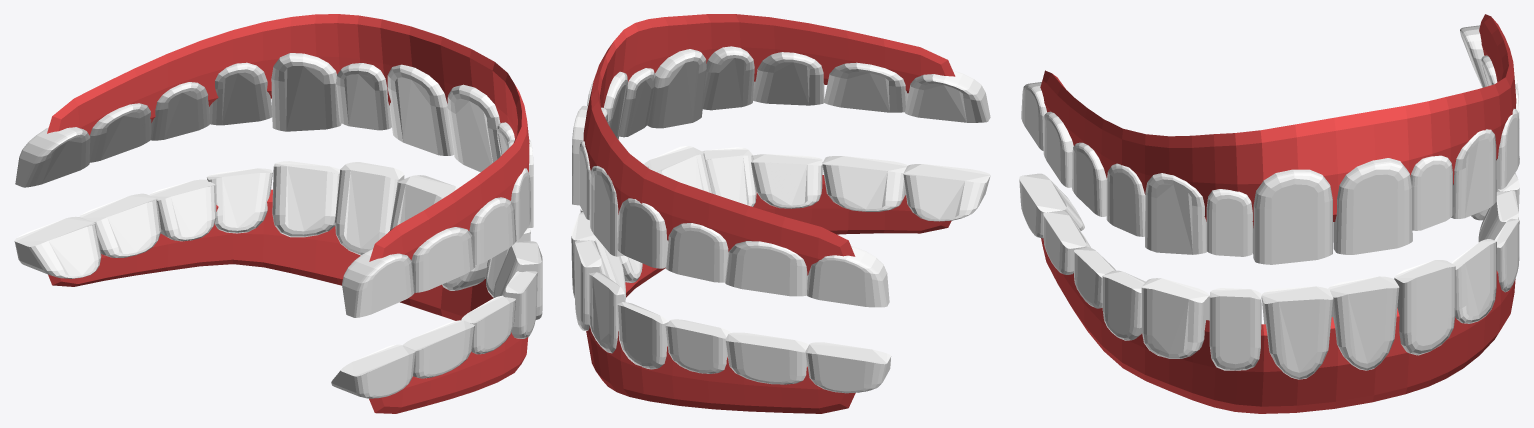
The model's file is cartoon-teeth-set.glb.
3 views of the same model, side by side, from view 1: azimuth 30°, elevation 25°; view 2: azimuth 150°, elevation 25°; view 3: azimuth 270°, elevation 25° (orthographic). The views are drawn at different scales.
Visible parts, largest first — view 1: Box001, Box015; view 2: Box001, Box015; view 3: Box001, Box015.
Part boxes in pixels (x1,y1,x2,y2): Box001: (14, 53, 542, 398); Box015: (47, 14, 529, 413); Box001: (571, 46, 990, 393); Box015: (583, 14, 955, 413); Box001: (1019, 25, 1519, 379); Box015: (1040, 14, 1516, 413).
Bounding box in the file's own units: 437646 × 298389 × 464826.
